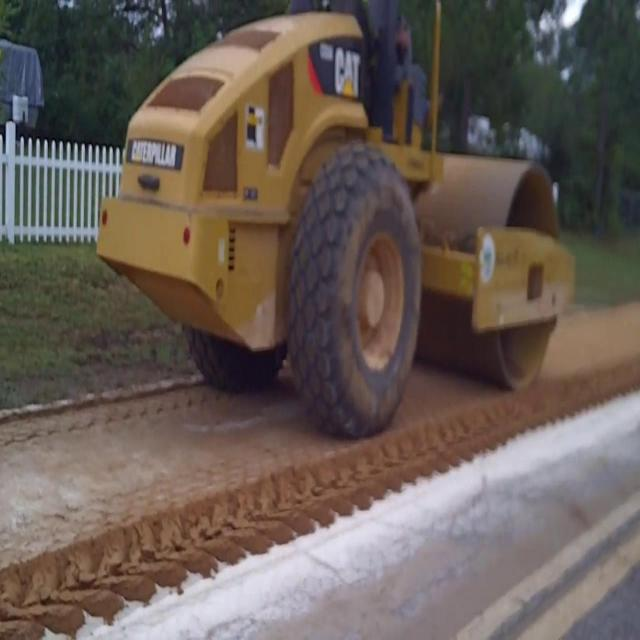Roller: (94, 0, 578, 443)
